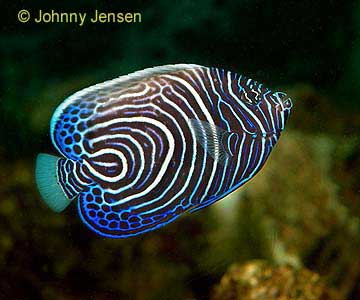Pomacanthus_imperator: (27, 54, 308, 239)
